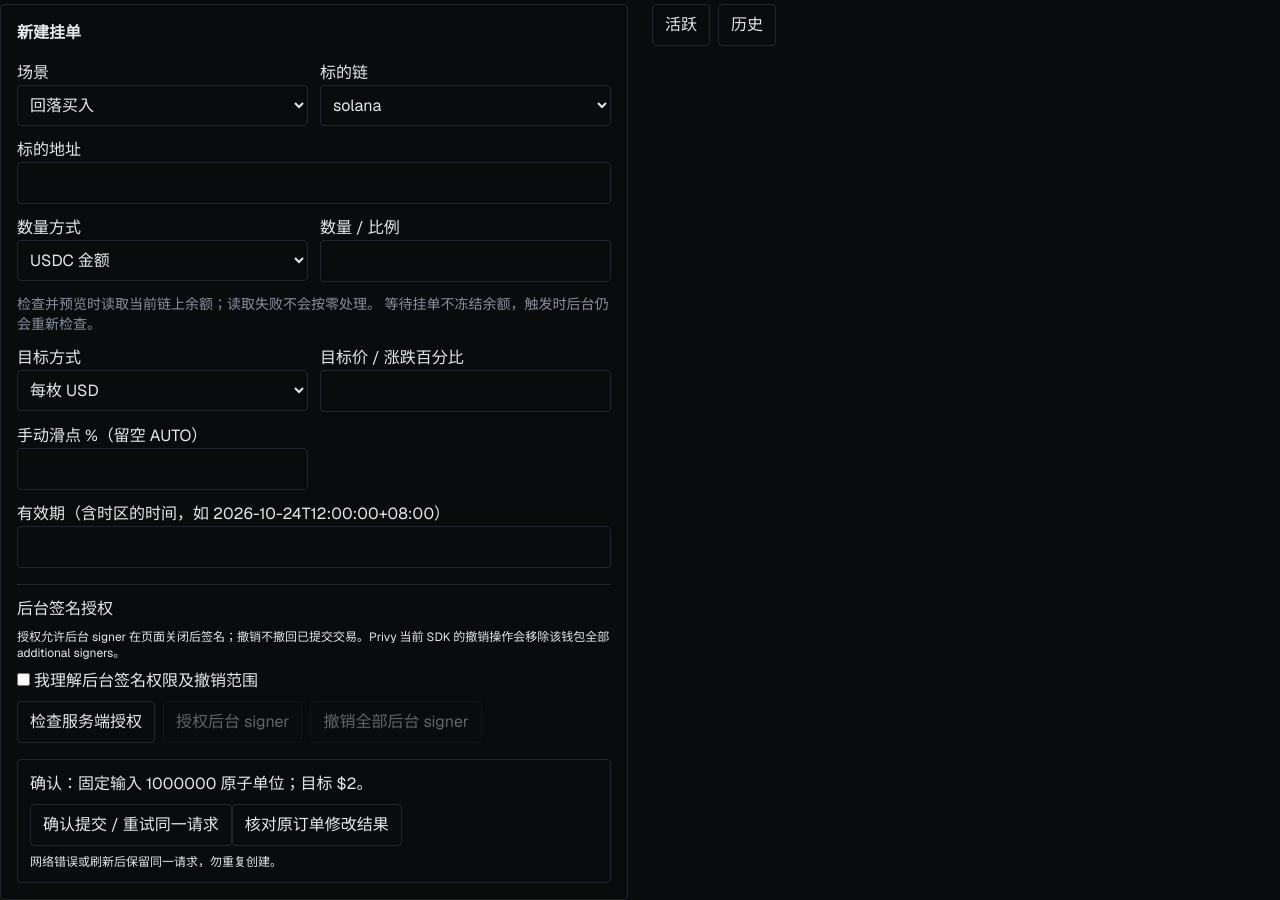
Test case: checks the original after a modification conflict without creating or applying a new version
(page scrolled)
Click the button "确认提交 / 重试同一请求". click: {"x": 131, "y": 825}
box: [30,804,232,846]
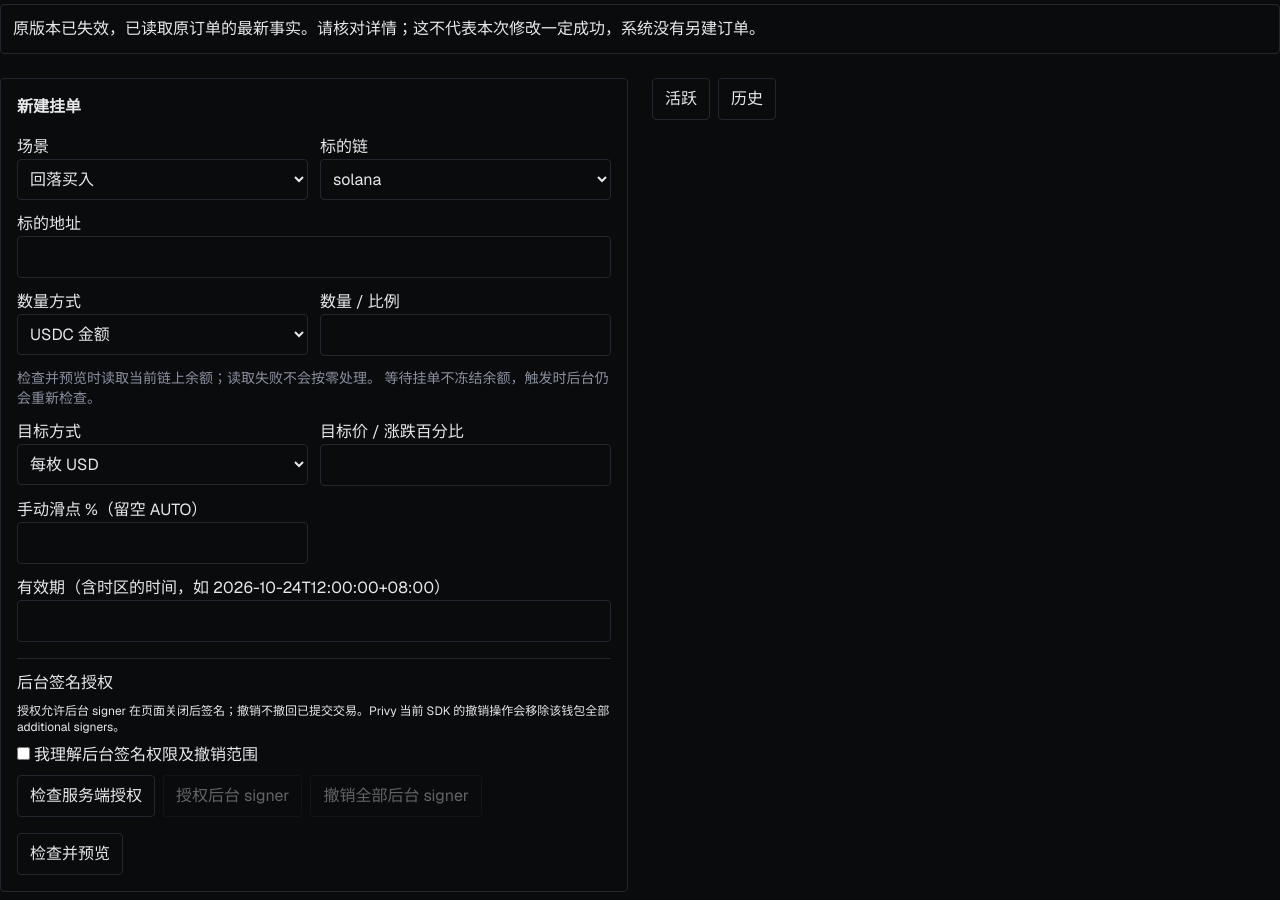
Expected: the text "原版本已失效，已读取原订单的最新事实。请核对详情；这不代表本次修改一定成功，系统没有另建订单。" is shown, [0,4,1279,54]
